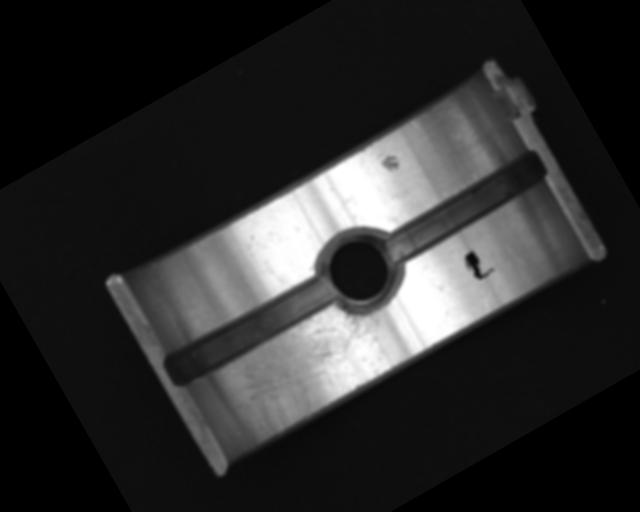blot: (459, 244, 497, 284)
bruise: (377, 152, 402, 176)
gap: (158, 265, 341, 394), (377, 149, 550, 268)
hole: (306, 215, 415, 326)
scratch: (205, 286, 407, 452)
